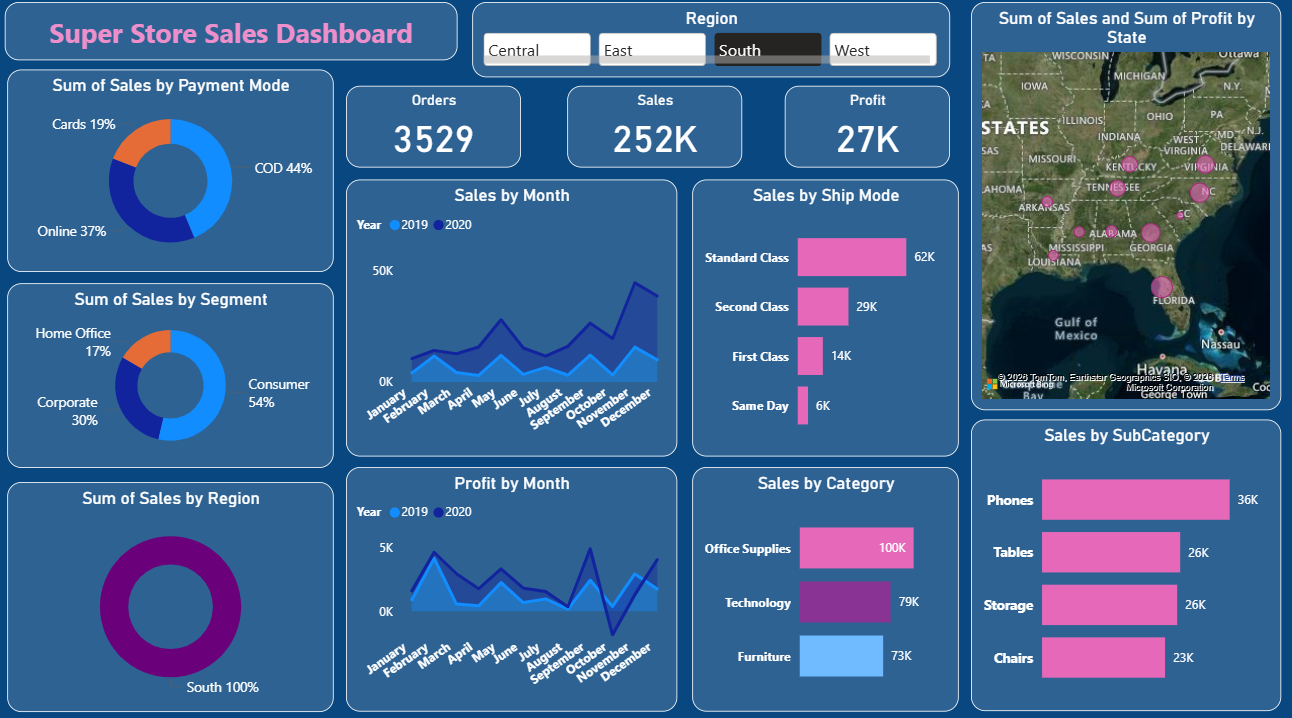

This screenshot's page, from the dashboard's own definition file:
{"tool":"powerbi","page":{"name":"Page 1","canvas":[1280,720],"ordinal":0},"visuals":[{"type":"clusteredBarChart","title":"Sales by Category","fields":{"Category":["Table1.Category"],"Y":["Sum(Table1.Sales)"]},"box":[687.7,469.3,263,241.3],"z":0},{"type":"clusteredBarChart","title":"Sales by SubCategory","fields":{"Category":["Table1.Sub-Category"],"Y":["Sum(Table1.Sales)"]},"box":[962.7,422.3,306.4,288.3],"z":1000},{"type":"clusteredBarChart","title":"Sales by Ship Mode","fields":{"Category":["Table1.Ship Mode"],"Y":["Sum(Table1.Sales)"]},"box":[687.7,185.8,263,273.9],"z":2000},{"type":"stackedAreaChart","title":"Sales by Month","fields":{"Y":["Sum(Table1.Sales)"],"Category":["Table1.Order Date.Variation.Date Hierarchy.Month","Table1.Order Date.Variation.Date Hierarchy.Day"],"Series":["Table1.Order Date.Variation.Date Hierarchy.Year"]},"box":[346.2,185.8,326.9,273.9],"z":3000},{"type":"stackedAreaChart","title":"Profit by Month","fields":{"Category":["Table1.Order Date.Variation.Date Hierarchy.Month","Table1.Order Date.Variation.Date Hierarchy.Day"],"Series":["Table1.Order Date.Variation.Date Hierarchy.Year"],"Y":["Sum(Table1.Profit)"]},"box":[346.2,469.3,326.9,241.3],"z":4000},{"type":"map","fields":{"Category":["Table1.State"],"Size":["Sum(Table1.Sales)"]},"box":[962.7,9.7,306.4,403],"z":5000},{"type":"donutChart","fields":{"Category":["Table1.Segment"],"Y":["Sum(Table1.Sales)"]},"box":[10.9,287.1,322.1,182.2],"z":6000},{"type":"donutChart","fields":{"Category":["Table1.Payment Mode"],"Y":["Sum(Table1.Sales)"]},"box":[10.9,76,322.1,200.3],"z":7000},{"type":"advancedSlicerVisual","fields":{"Values":["Table1.Region"]},"box":[470.5,9.7,471.7,74.8],"z":8000},{"type":"textbox","box":[8.4,9.7,447.6,57.9],"z":9000},{"type":"card","title":"Sales","fields":{"Values":["Sum(Table1.Sales)"]},"box":[564.6,92.9,172.5,80.8],"z":10000},{"type":"card","title":"Orders","fields":{"Values":["Sum(Table1.Quantity)"]},"box":[346.2,92.9,172.5,80.8],"z":11000},{"type":"card","title":"Profit","fields":{"Values":["Sum(Table1.Profit)"]},"box":[779.4,92.9,162.9,80.8],"z":12000},{"type":"donutChart","fields":{"Category":["Table1.Region","Table1.Segment"],"Y":["Sum(Table1.Sales)"]},"box":[10.9,483.8,322.1,226.8],"z":13000}]}

Visuals, with their boxes in screenshot pixels (x1, y1, x2, y2), scaled from the page's 1280x720 canvas onto the 1292x718 screenshot:
"Sales by Category" clusteredBarChart: (x1=694, y1=468, x2=960, y2=709)
"Sales by SubCategory" clusteredBarChart: (x1=972, y1=421, x2=1281, y2=709)
"Sales by Ship Mode" clusteredBarChart: (x1=694, y1=185, x2=960, y2=458)
"Sales by Month" stackedAreaChart: (x1=349, y1=185, x2=679, y2=458)
"Profit by Month" stackedAreaChart: (x1=349, y1=468, x2=679, y2=709)
map - Table1.State x Sum(Table1.Sales): (x1=972, y1=10, x2=1281, y2=412)
donutChart - Table1.Segment x Sum(Table1.Sales): (x1=11, y1=286, x2=336, y2=468)
donutChart - Table1.Payment Mode x Sum(Table1.Sales): (x1=11, y1=76, x2=336, y2=276)
advancedSlicerVisual - Table1.Region: (x1=475, y1=10, x2=951, y2=84)
textbox: (x1=8, y1=10, x2=460, y2=67)
"Sales" card: (x1=570, y1=93, x2=744, y2=173)
"Orders" card: (x1=349, y1=93, x2=524, y2=173)
"Profit" card: (x1=787, y1=93, x2=951, y2=173)
donutChart - Table1.Region x Table1.Segment: (x1=11, y1=482, x2=336, y2=709)
